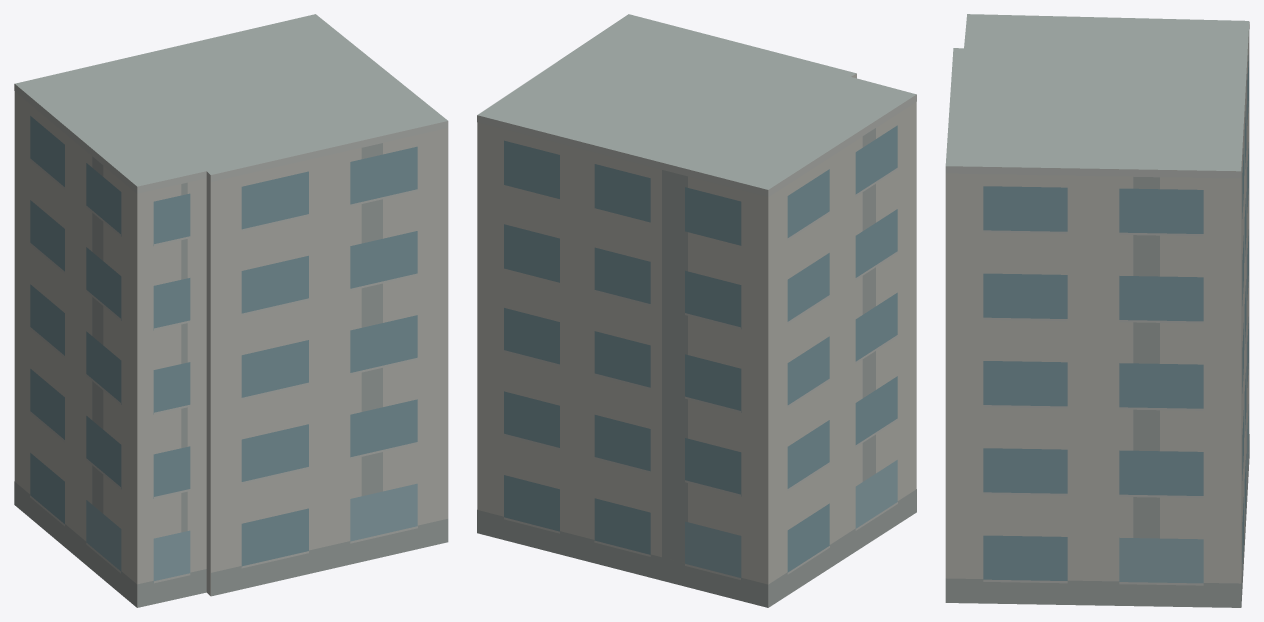
Rendered from survey-upis-32487588.glb.
3 views of the same model, side by side, from view 1: azimuth 30°, elevation 25°; view 2: azimuth 150°, elevation 25°; view 3: azimuth 270°, elevation 25° (orthographic). The views are drawn at different scales.
Parts seen in each view (by area): view 1: survey-upis-32487588.tmp; view 2: survey-upis-32487588.tmp; view 3: survey-upis-32487588.tmp.
Part boxes in pixels (left/top/right/bottom): survey-upis-32487588.tmp: left=14, top=14, right=448, bottom=607; survey-upis-32487588.tmp: left=477, top=14, right=916, bottom=607; survey-upis-32487588.tmp: left=945, top=14, right=1249, bottom=607.
Size of the model in its own units: 11.05 by 14.3 by 9.03.
